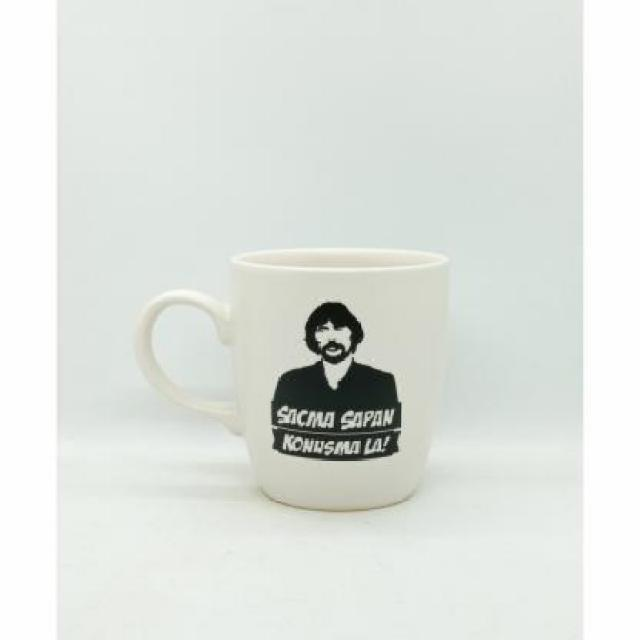taza: (115, 238, 459, 516)
